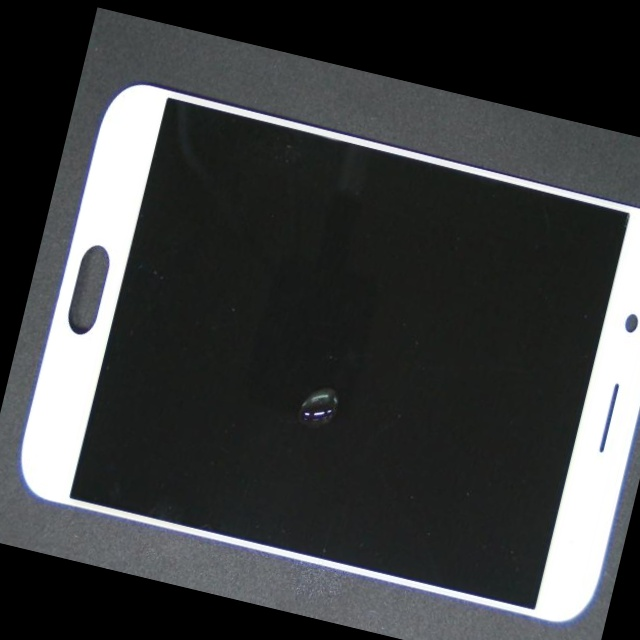oil: (117, 182, 485, 600)
